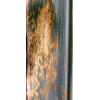Corn rust leaf: (26, 1, 72, 100)
